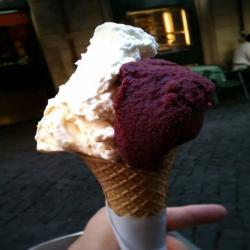icecream: (28, 20, 221, 174)
